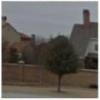chimneys: (83, 8, 91, 28)
